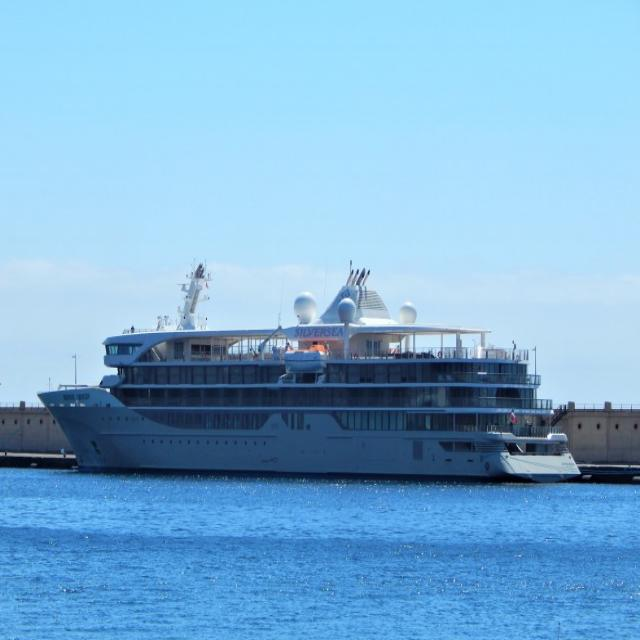cruises: (35, 258, 588, 491)
